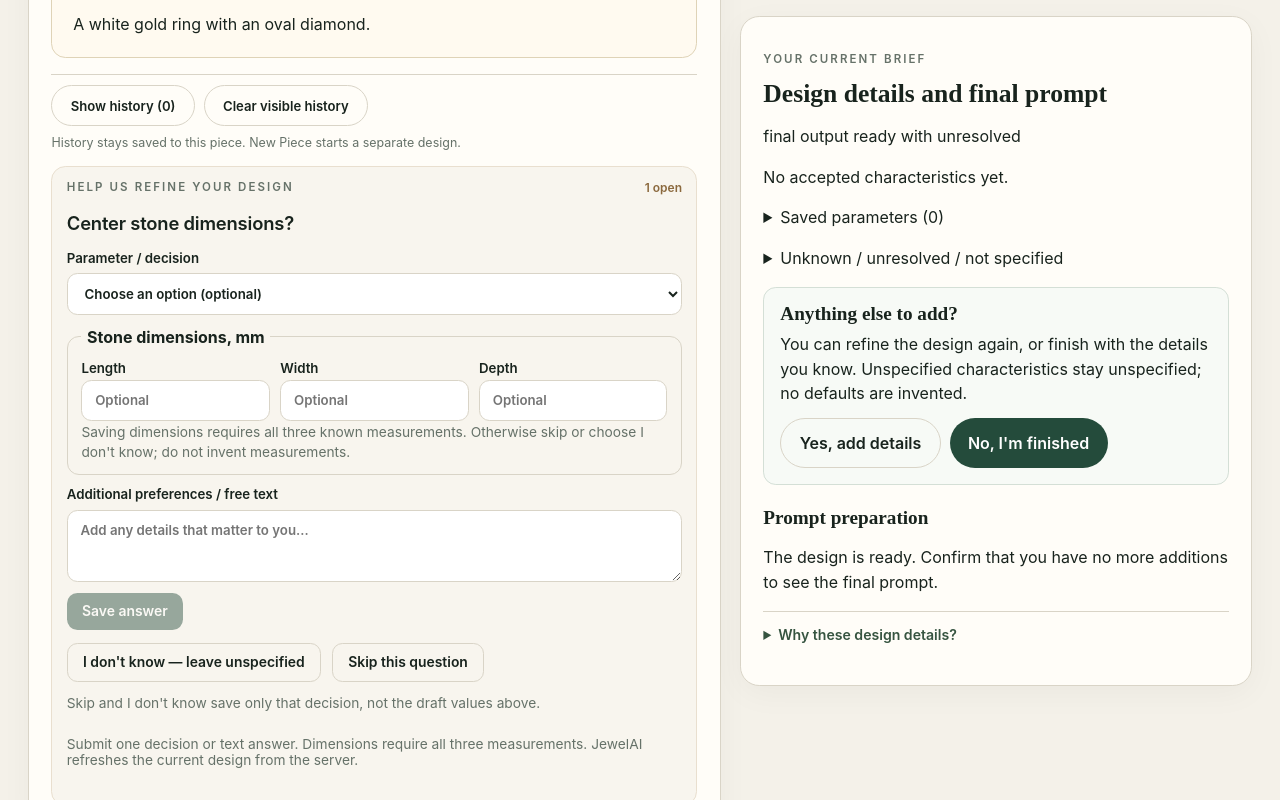
Test: Prompt Enrichment workspace › keeps invalid dimension drafts in en and saves only explicit SKIP
This screenshot has width=1280, height=800.
Later steps or results of the test are not shown.
(page scrolled)
Type "0" into the number field named "Length (mm)". click: (176, 400)
box: [81, 380, 270, 421]
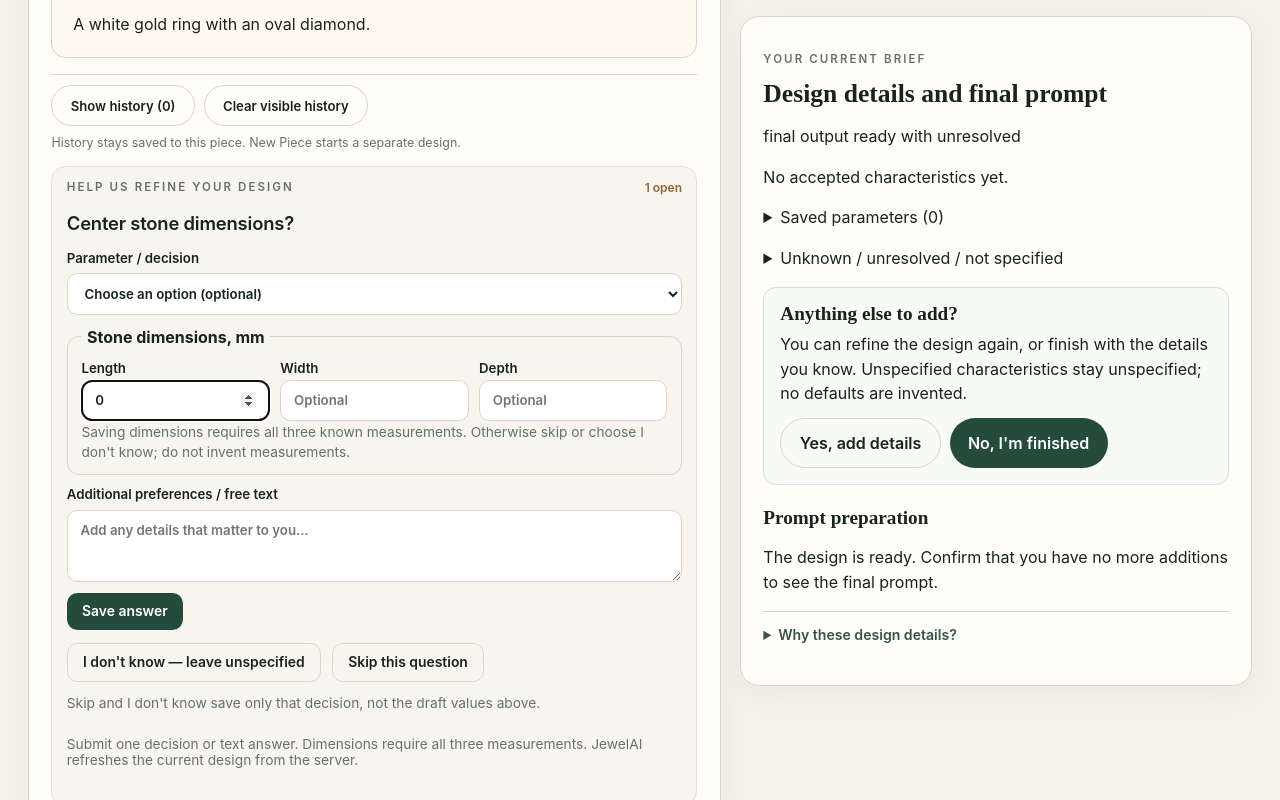
Click the button "Save answer". click: (125, 611)
box: [67, 593, 183, 630]
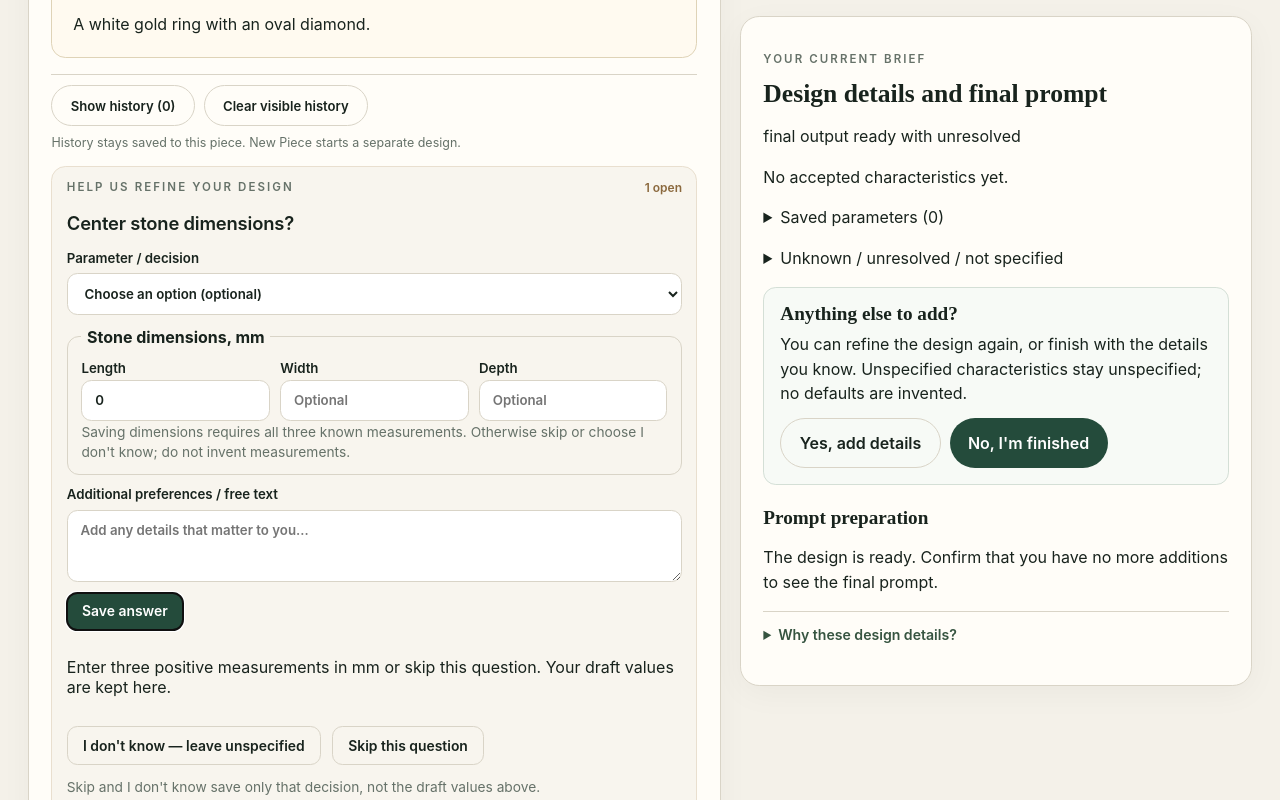
Expected: the button "Skip this question" is enabled, [332, 726, 484, 765]
Now the 2nd message shows "positive", box [67, 657, 674, 697]
